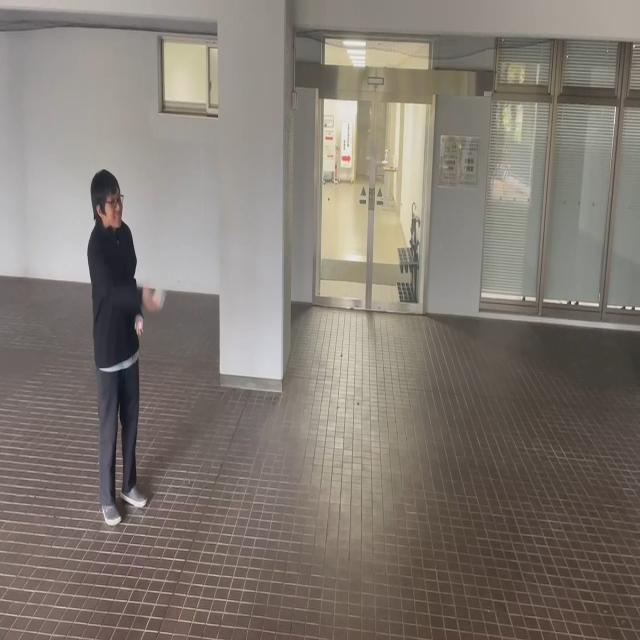paper: (153, 285, 166, 306), (135, 315, 144, 329)
